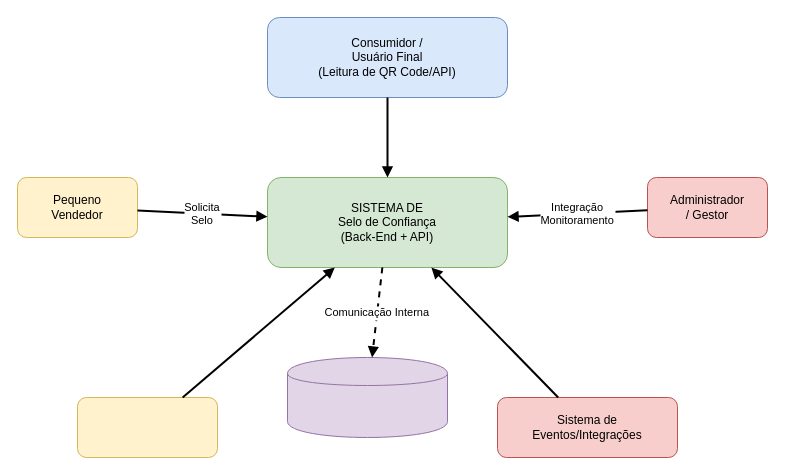
Image size: 785x475. Some labels were removed from this diagram. The shapes that lost their labels are listed below. From the top down, each one's box as (x1, y1, x2, y2) in pixels, then its label:
(286, 356, 448, 438): Persistência (Banco de Dados)
(76, 396, 218, 458): Front-End (Web/App)
